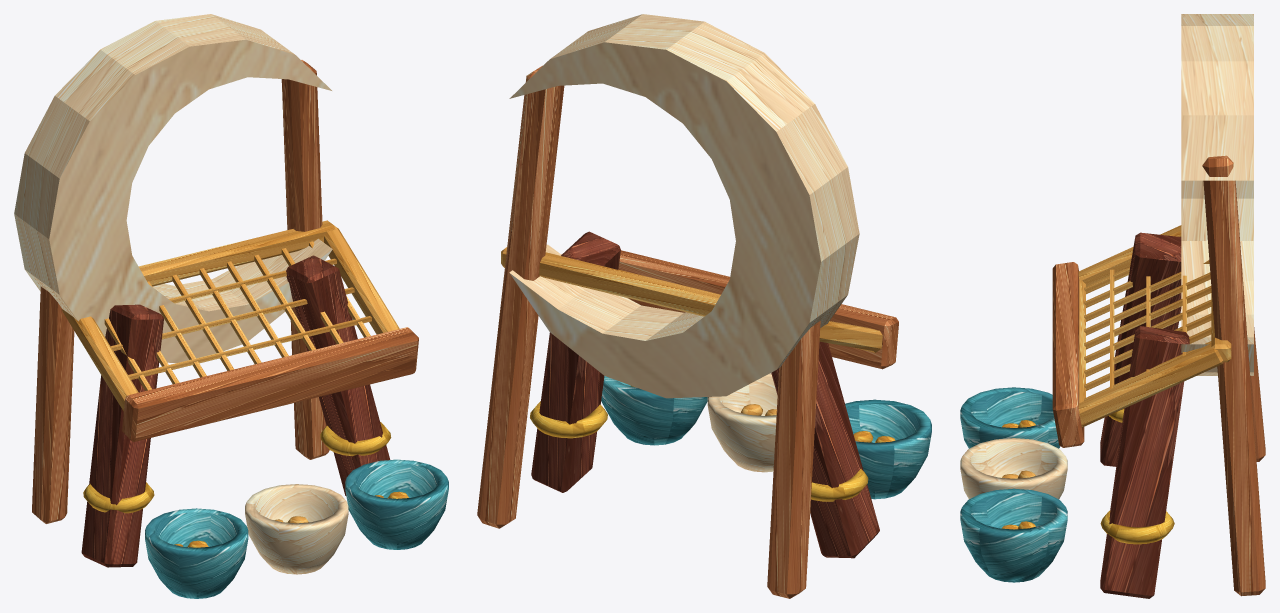
File: 05_手绘油画候选.glb
3 renders of one model, left to right at view 1: azimuth 30°, elevation 25°; view 2: azimuth 150°, elevation 25°; view 3: azimuth 270°, elevation 25°, orthographic. The views are drawn at different scales.
Visible parts, largest first — view 1: moon_sorter; view 2: moon_sorter; view 3: moon_sorter.
Boxes of the visible parts, <box> form: moon_sorter: <box>14,14,448,598</box>; moon_sorter: <box>477,14,931,598</box>; moon_sorter: <box>960,14,1265,598</box>.
Size of the model in its own units: 1.04 by 1.5 by 0.8399.
1 material, 1 textured.
